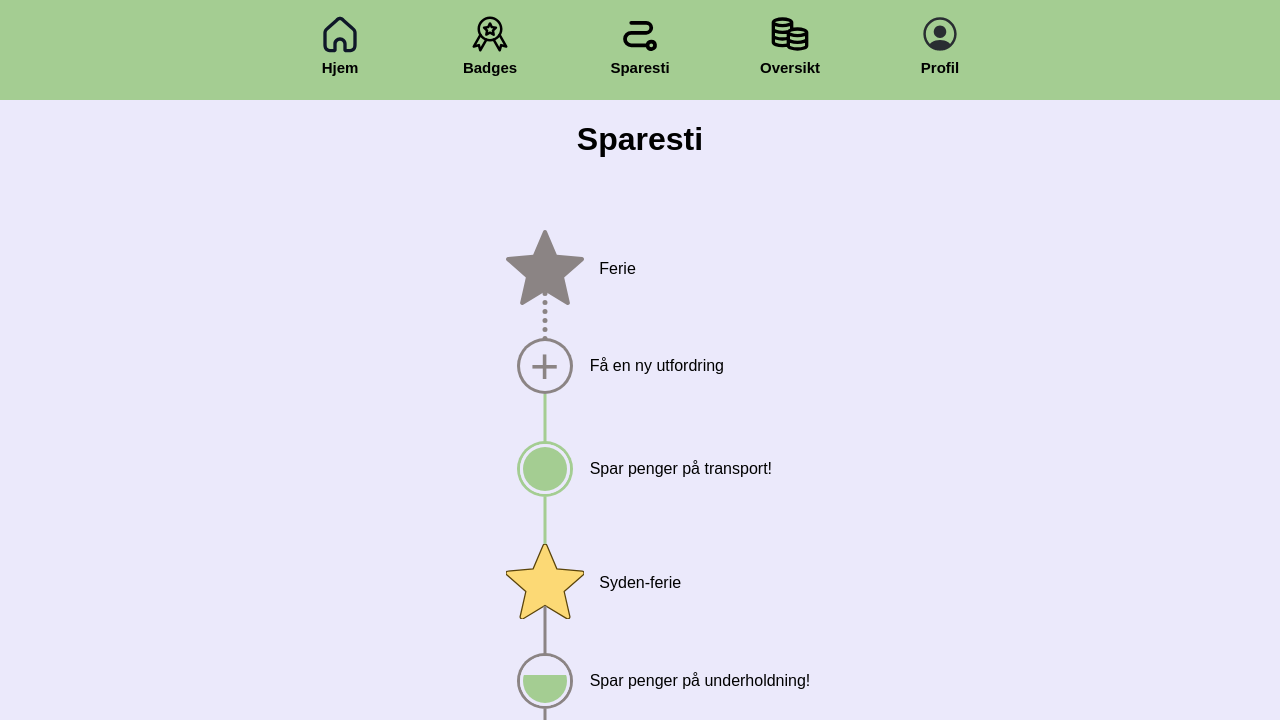
it: SparestiView › should able to close detailed information
Click the 1st element with class "star_with_line". click: coordinates (546, 270)
box: [506,230,585,309]
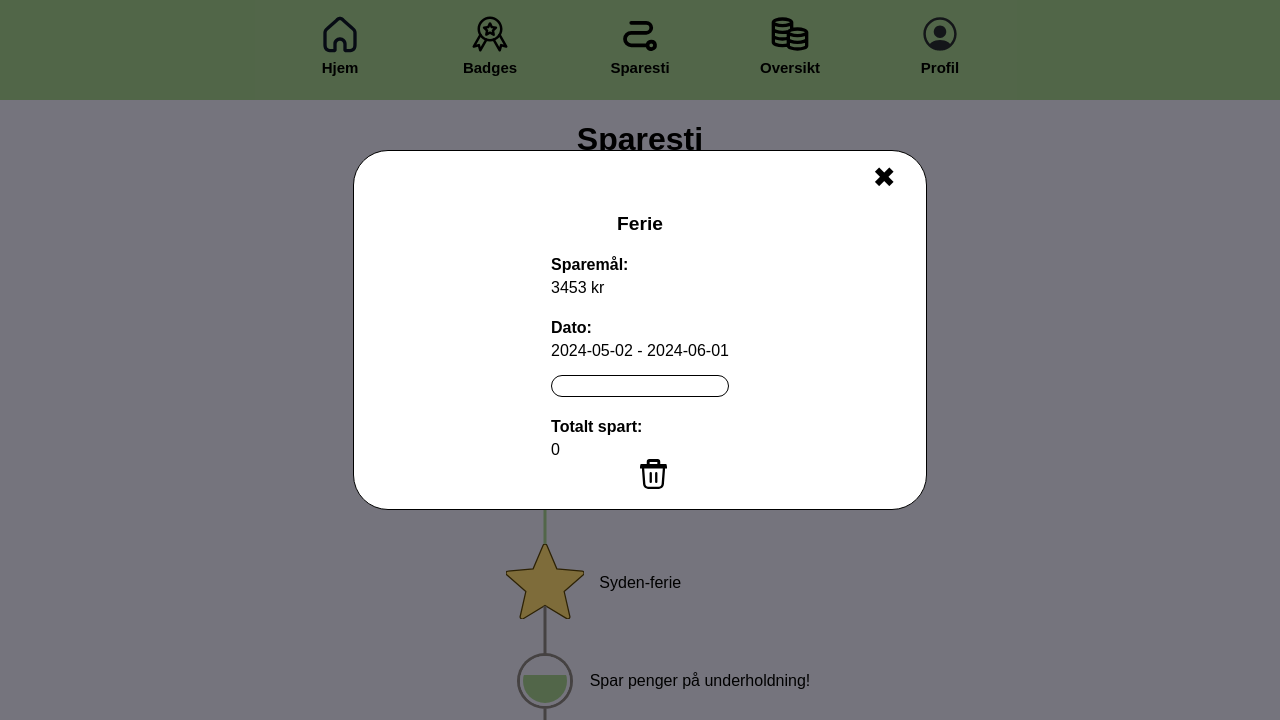
Check: the element with class "modal-wrapper" is shown, box [353,150,927,510]
Click the text with id "close". click: coordinates (885, 178)
box: [873,161,897,194]
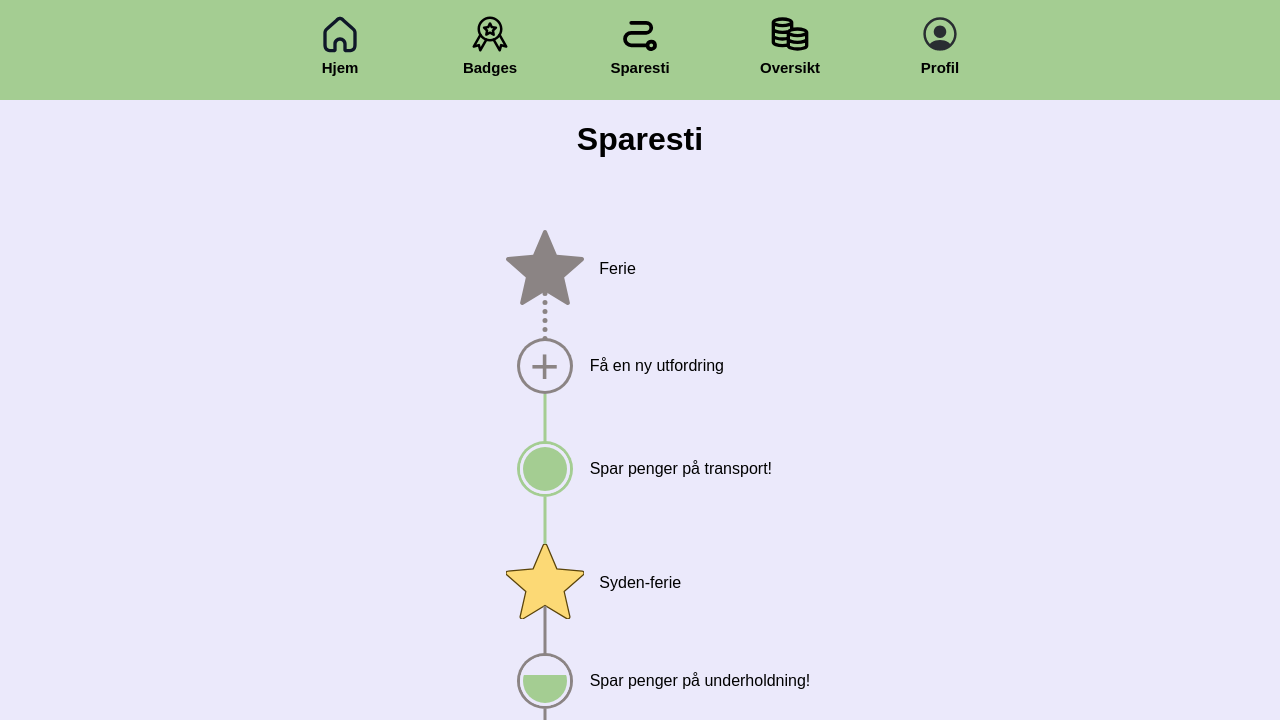
Check: the element with class "modal-wrapper" is gone
